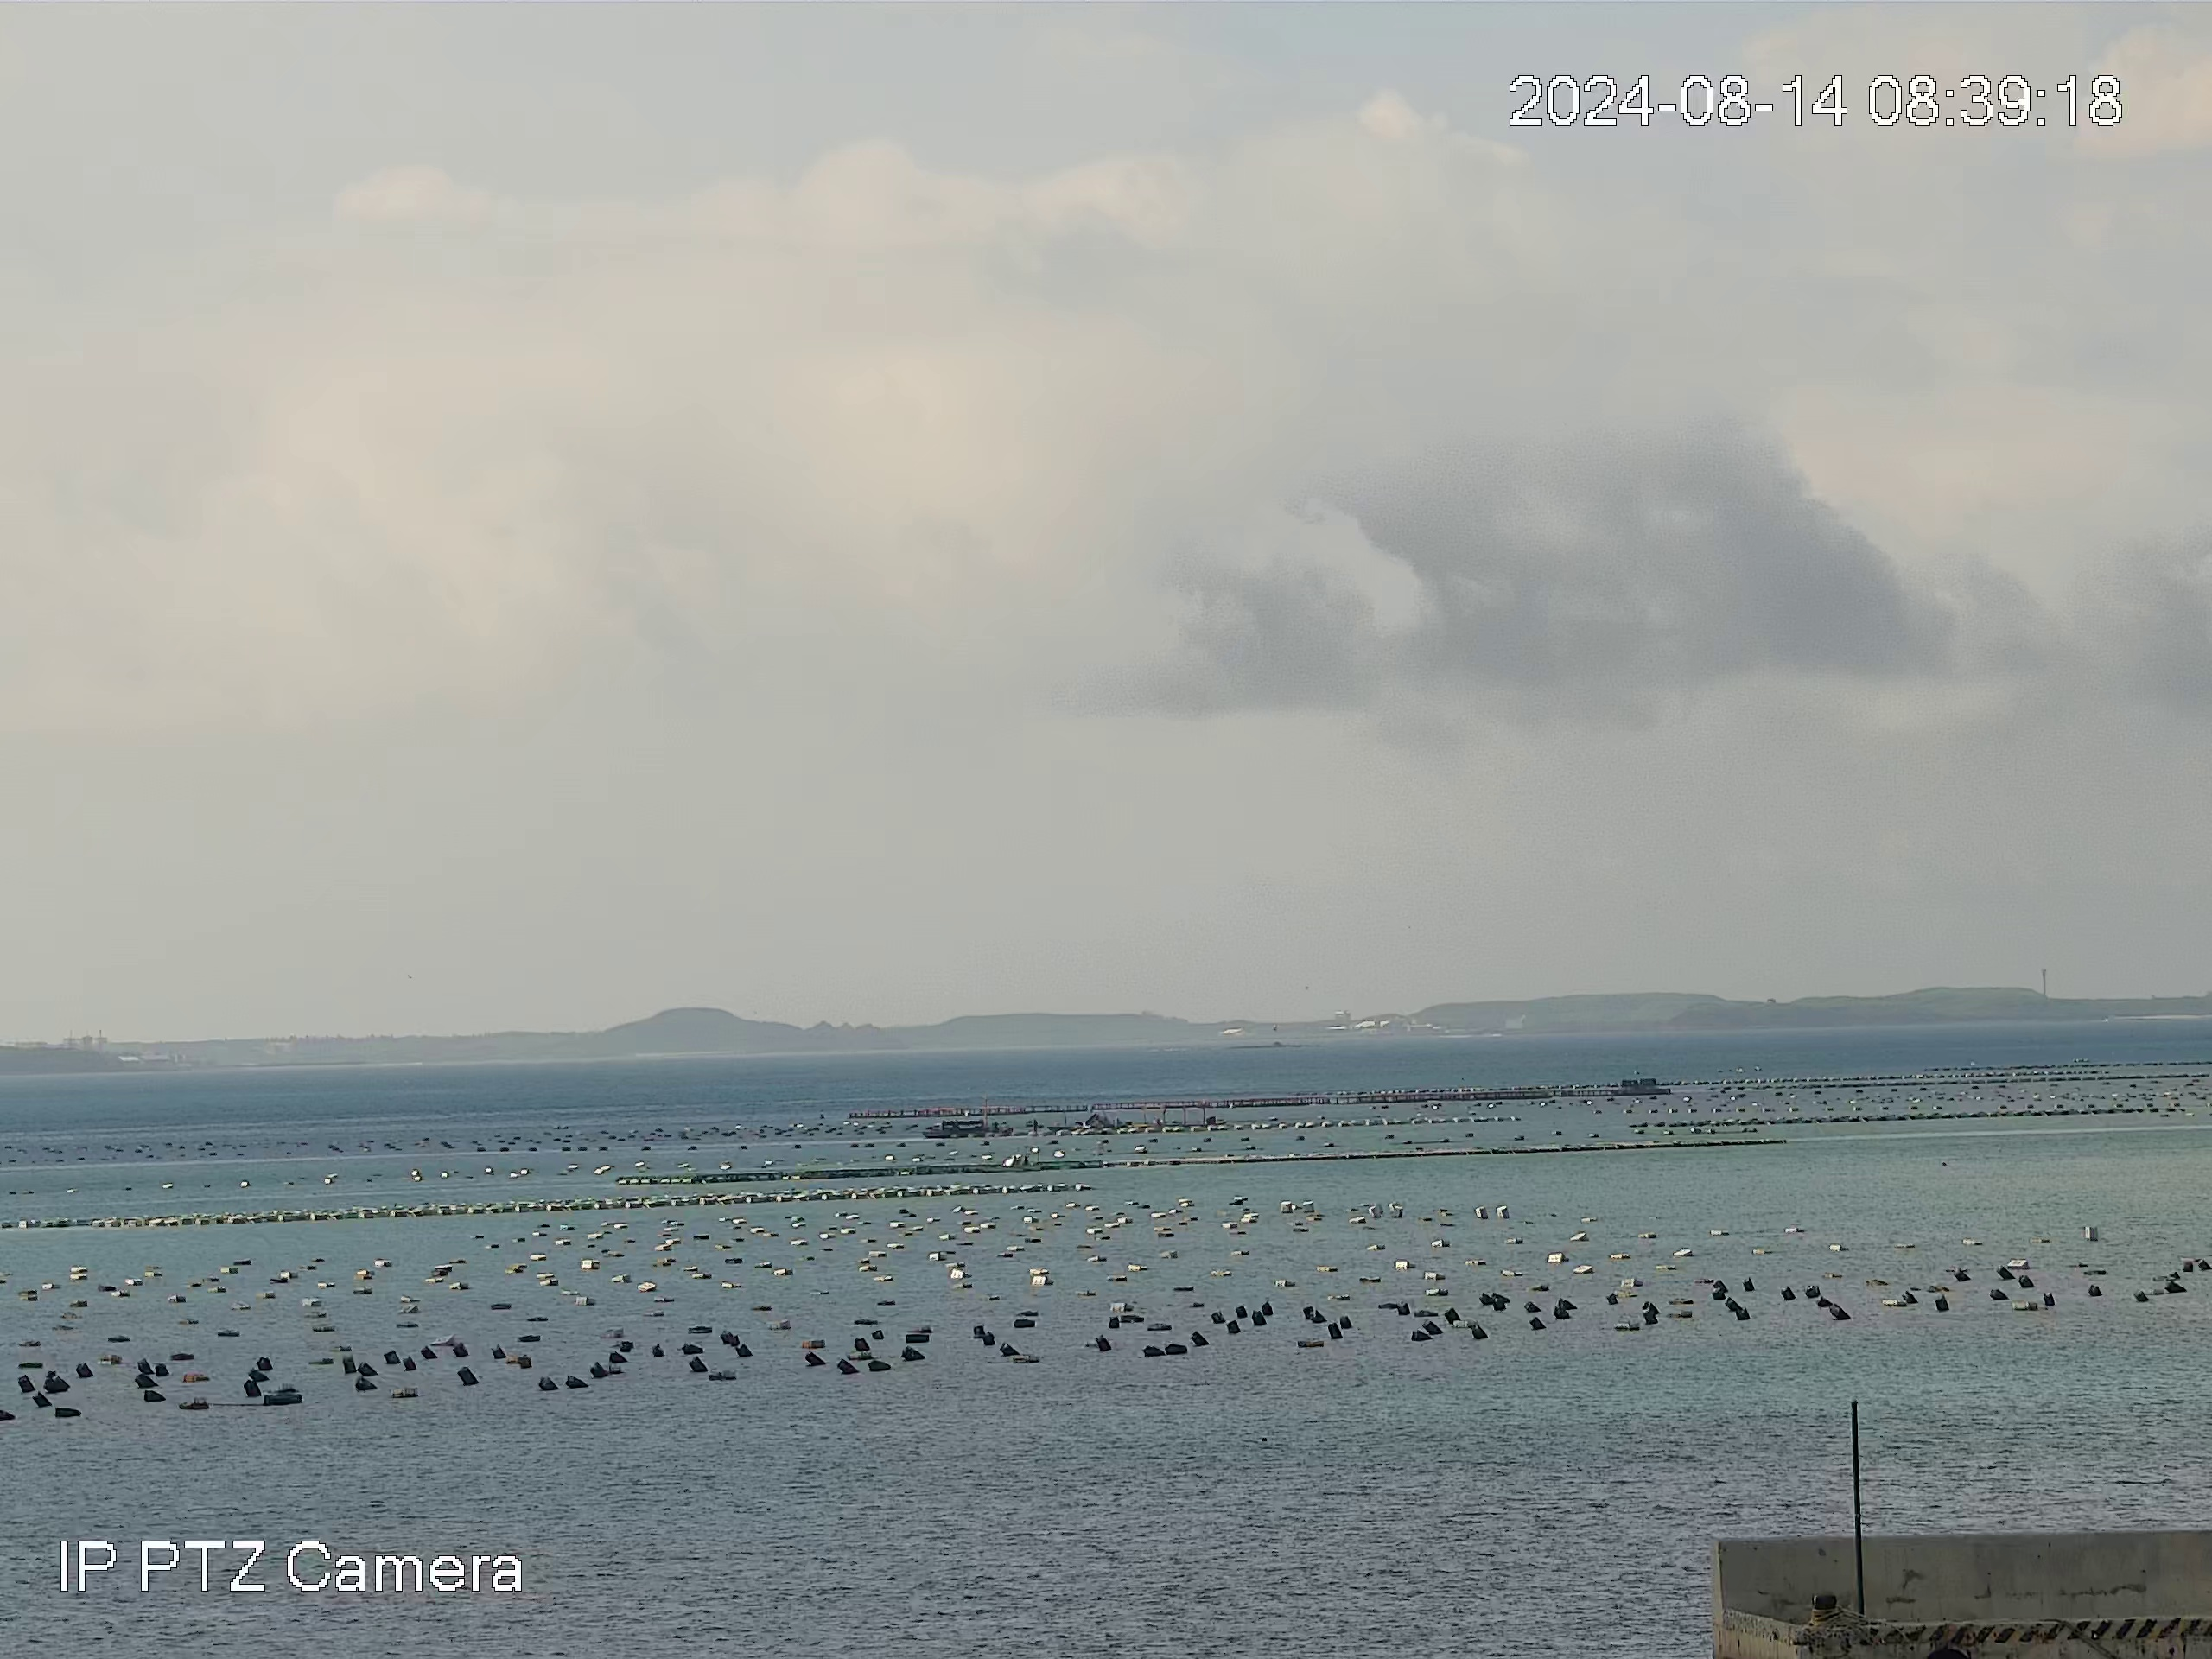boat: (923, 1115, 988, 1141)
